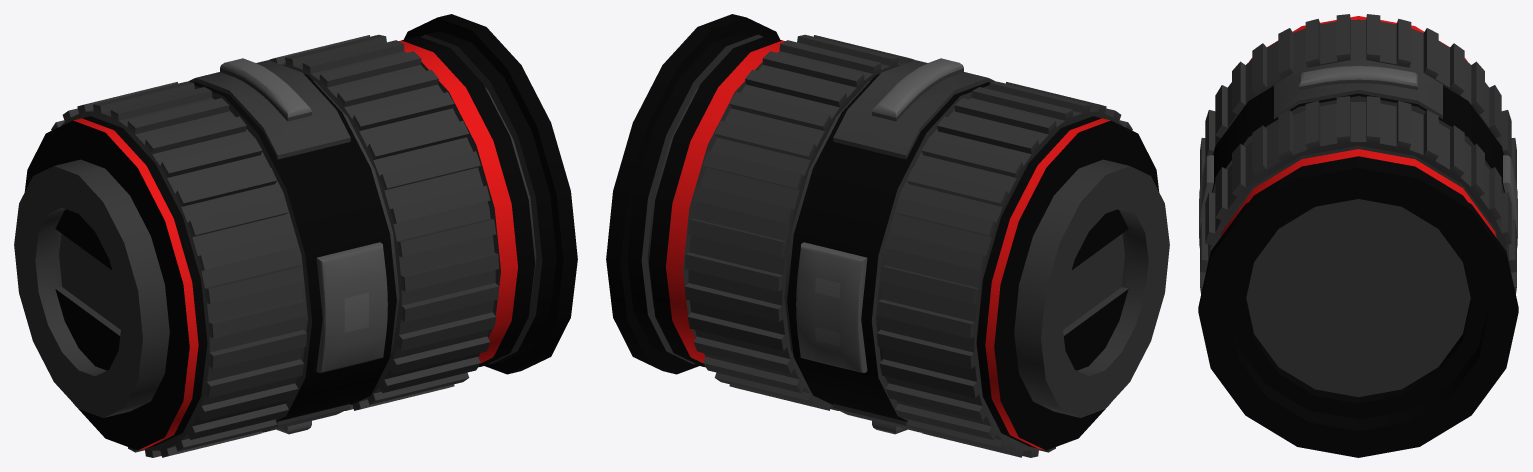
File: optic_lens.glb
3 renders of one model, left to right at view 1: azimuth 30°, elevation 25°; view 2: azimuth 150°, elevation 25°; view 3: azimuth 270°, elevation 25°, orthographic. The views are drawn at different scales.
Visible parts, largest first — view 1: Mesh_CameraLens_01; view 2: Mesh_CameraLens_01; view 3: Mesh_CameraLens_01.
Part boxes in pixels (x1=…): Mesh_CameraLens_01: x1=14, y1=14, x2=577, y2=457; Mesh_CameraLens_01: x1=606, y1=14, x2=1169, y2=457; Mesh_CameraLens_01: x1=1198, y1=14, x2=1518, y2=457.
Size of the model in its own units: 11.16 by 8.92 by 8.65.
1 material, 1 textured.
